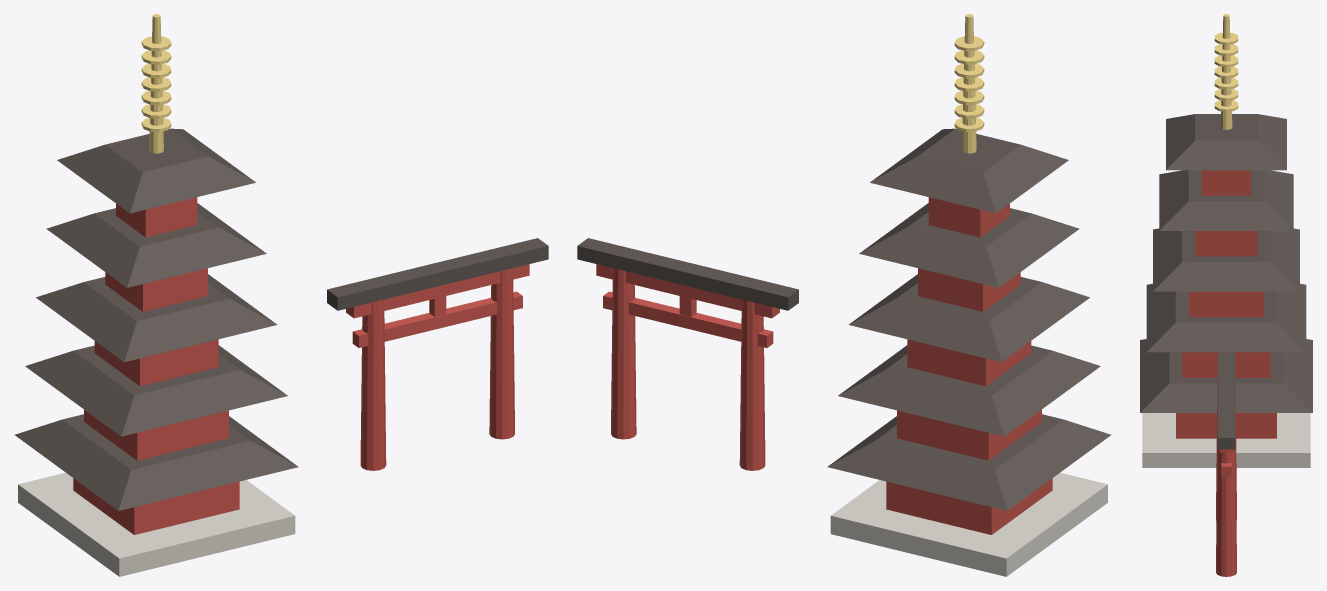
Rendered from LM_JapanPagoda.fbx.
3 renders of one model, left to right at view 1: azimuth 30°, elevation 25°; view 2: azimuth 150°, elevation 25°; view 3: azimuth 270°, elevation 25°, orthographic. The views are drawn at different scales.
Parts seen in each view (by area): view 1: LM_JapanPagoda; view 2: LM_JapanPagoda; view 3: LM_JapanPagoda.
Part boxes in pixels (left/top/right/bottom): LM_JapanPagoda: left=14, top=14, right=548, bottom=576; LM_JapanPagoda: left=577, top=14, right=1111, bottom=576; LM_JapanPagoda: left=1140, top=14, right=1312, bottom=576.
Size of the model in its own units: 40.7 by 41 by 15.4.
